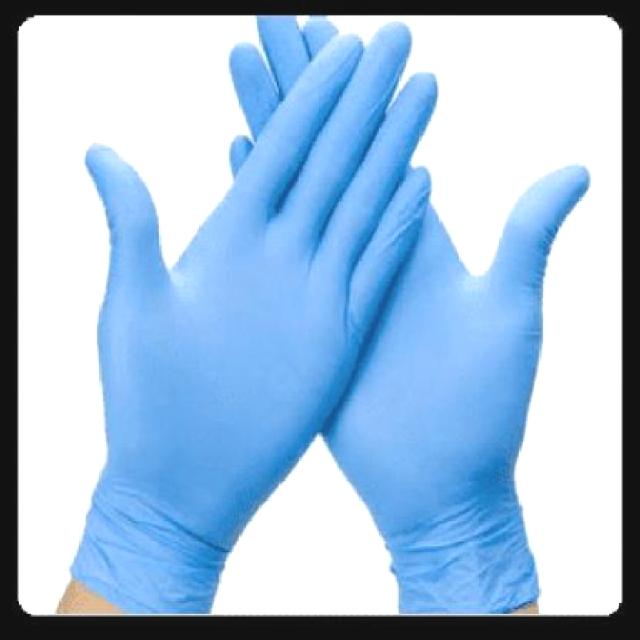glove: (35, 8, 592, 614)
